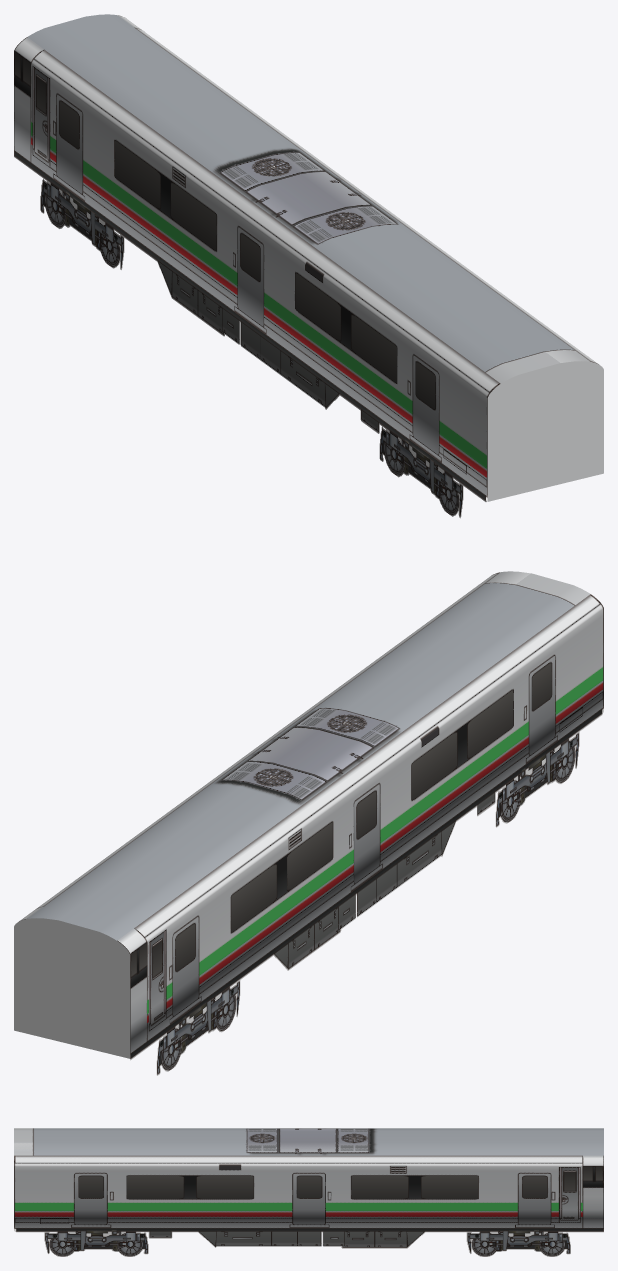
The model's file is car2.glb.
The picture shows the model from 3 angles, top to bottom: view 1: azimuth 30°, elevation 25°; view 2: azimuth 150°, elevation 25°; view 3: azimuth 270°, elevation 25°; orthographic projection. The views are drawn at different scales.
Parts seen in each view (by area): view 1: car2; view 2: car2; view 3: car2.
Boxes of the visible parts, x1,y1,x2,y2 form: car2: (14, 14, 603, 518); car2: (14, 571, 603, 1075); car2: (14, 1128, 603, 1256).
Size of the model in its own units: 2.81 by 3.73 by 19.82.
Materials: 5 (3 with a texture image).
